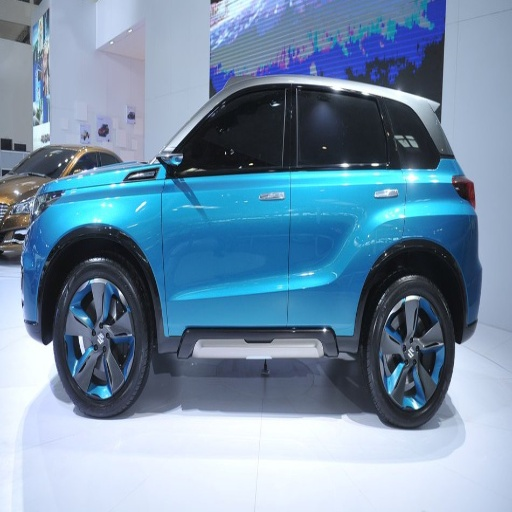back_left_door: (288, 83, 405, 326)
front_left_door: (165, 83, 291, 330)
